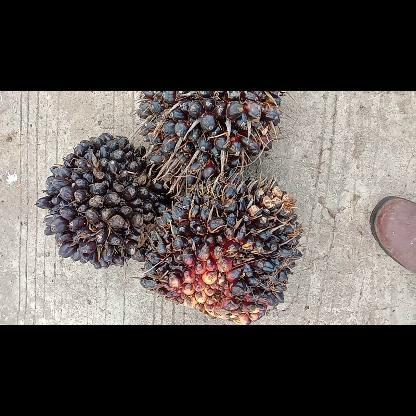TBS mentah: (136, 170, 304, 324), (30, 129, 182, 271), (132, 91, 286, 191)
